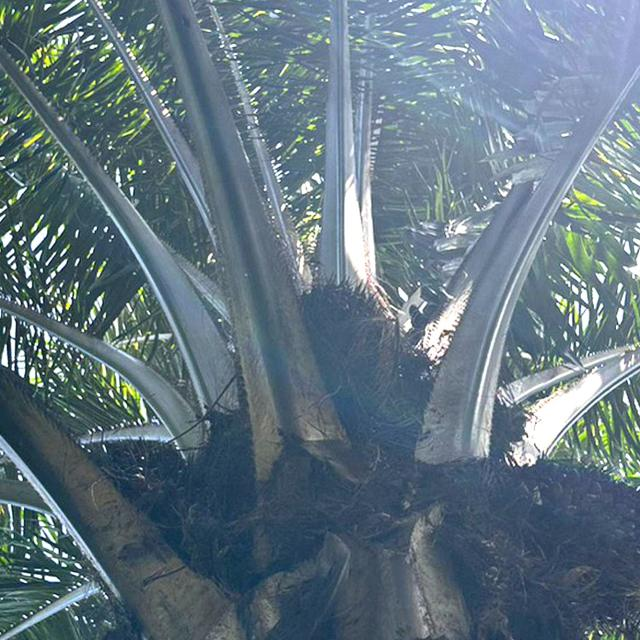unripe: (278, 262, 426, 445)
